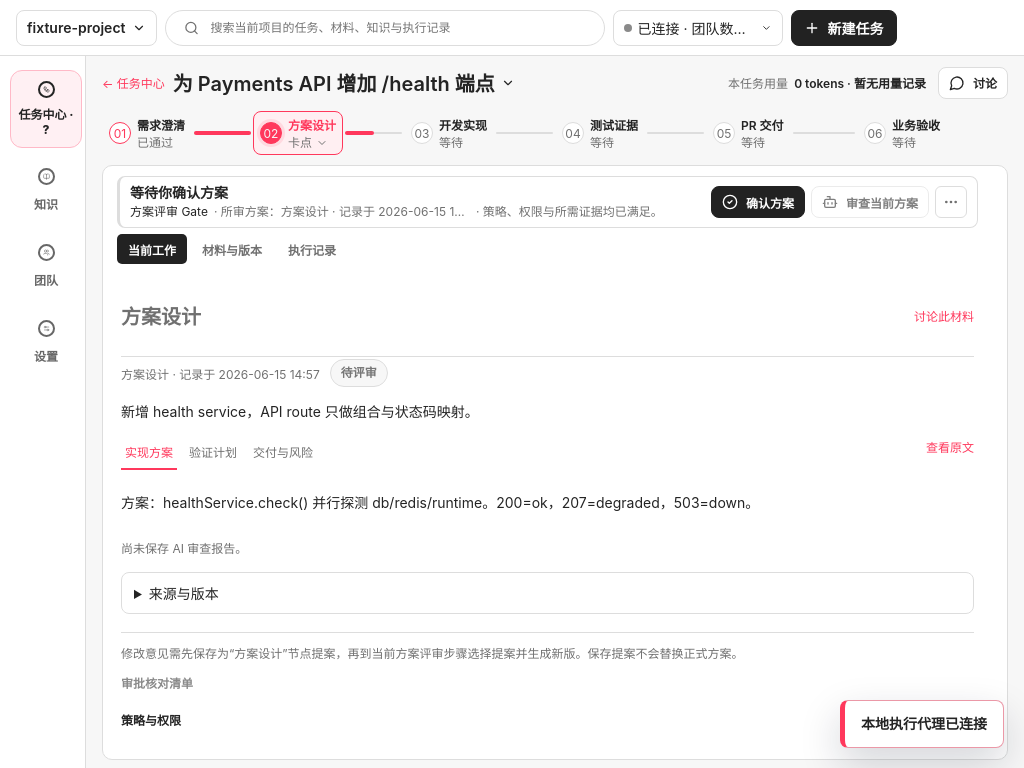
App › materializes a Work Request through the narrow command and selects the returned local Run
Click the button "任务中心 · ?": (46, 109) [10,70,82,148]
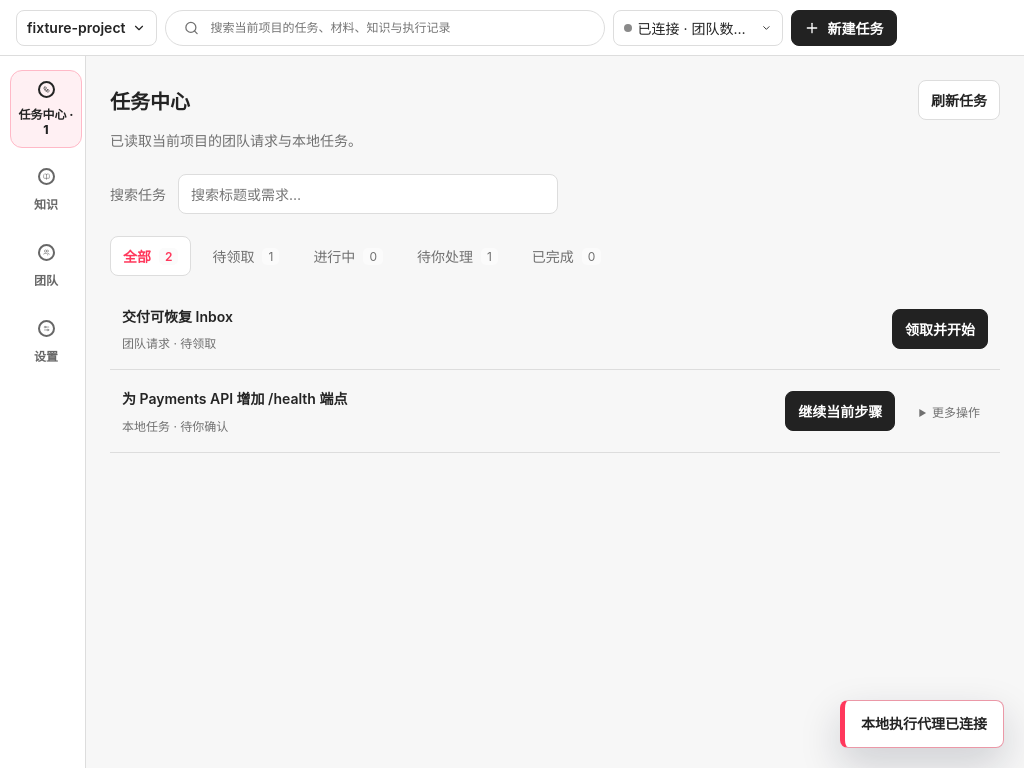
Check: the button with aria-label "领取任务：交付可恢复 Inbox" is enabled
Click the button with aria-label "领取任务：交付可恢复 Inbox": (940, 329) [892,309,988,349]
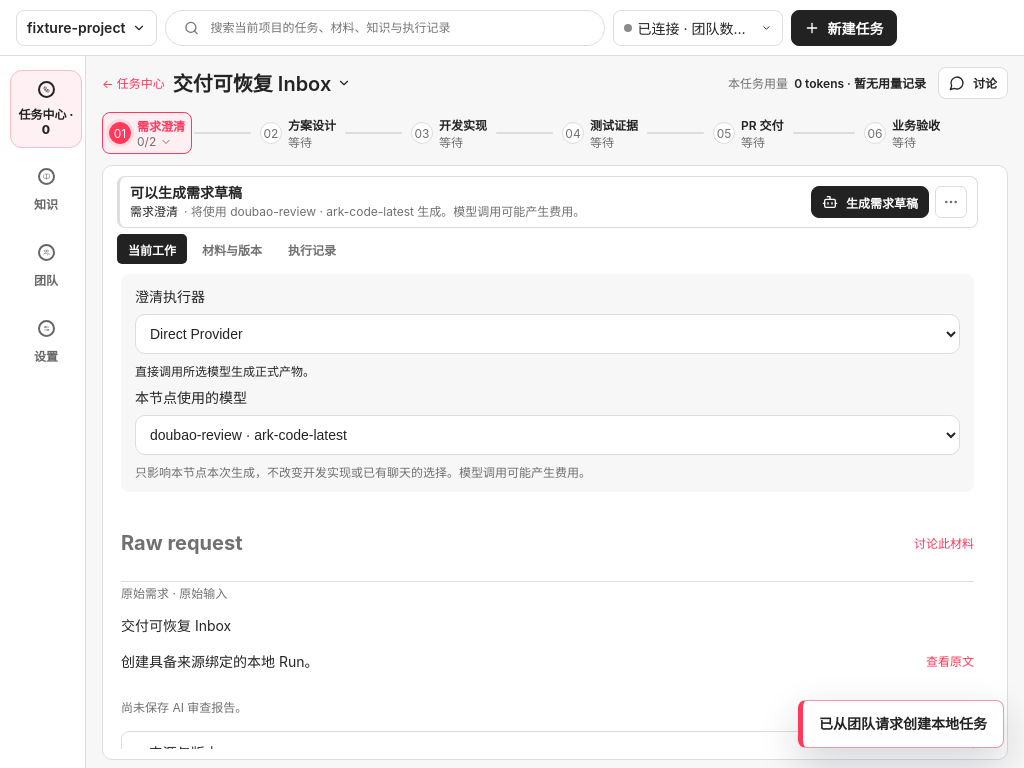
Check: the message with test id "toast" reads "已从团队请求创建本地任务", box [819,715,987,732]
